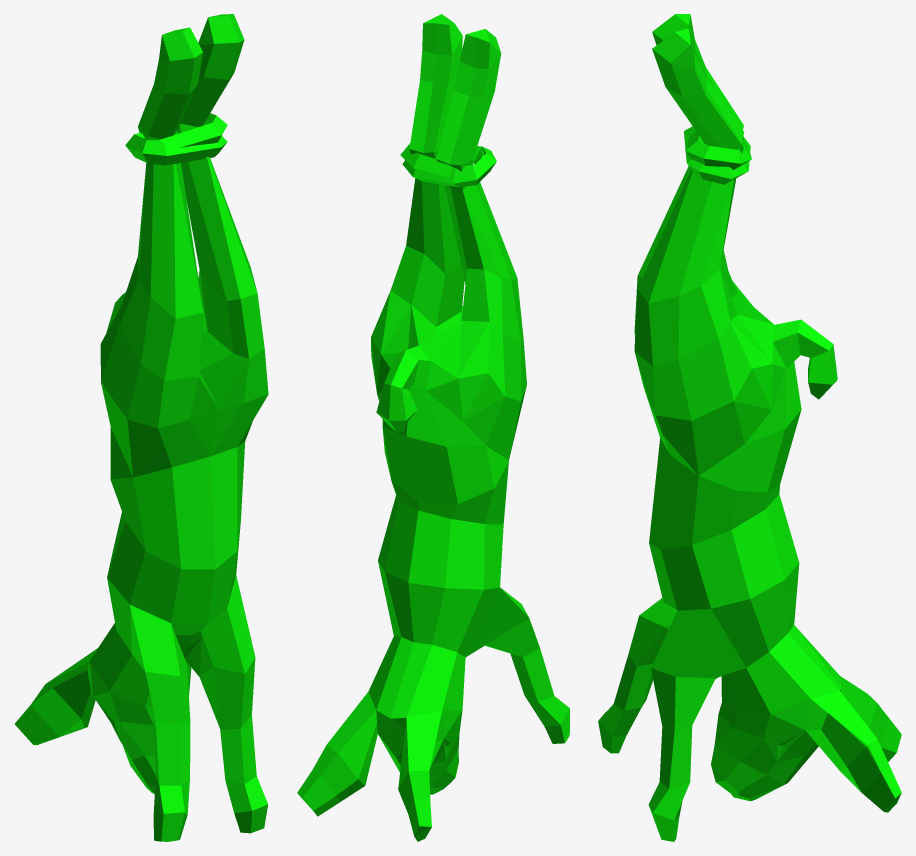
The model's file is SM_Rabbit_Hanging.fbx.
The picture shows the model from 3 angles, left to right: view 1: azimuth 30°, elevation 25°; view 2: azimuth 150°, elevation 25°; view 3: azimuth 270°, elevation 25°; orthographic projection. The views are drawn at different scales.
Visible parts, largest first — view 1: rabbit-hanging; view 2: rabbit-hanging; view 3: rabbit-hanging.
Part boxes in pixels (<box>): rabbit-hanging: <box>15,14,268,841</box>; rabbit-hanging: <box>297,14,569,841</box>; rabbit-hanging: <box>598,14,901,841</box>.
Size of the model in its own units: 0.1662 by 0.8705 by 0.3001.
